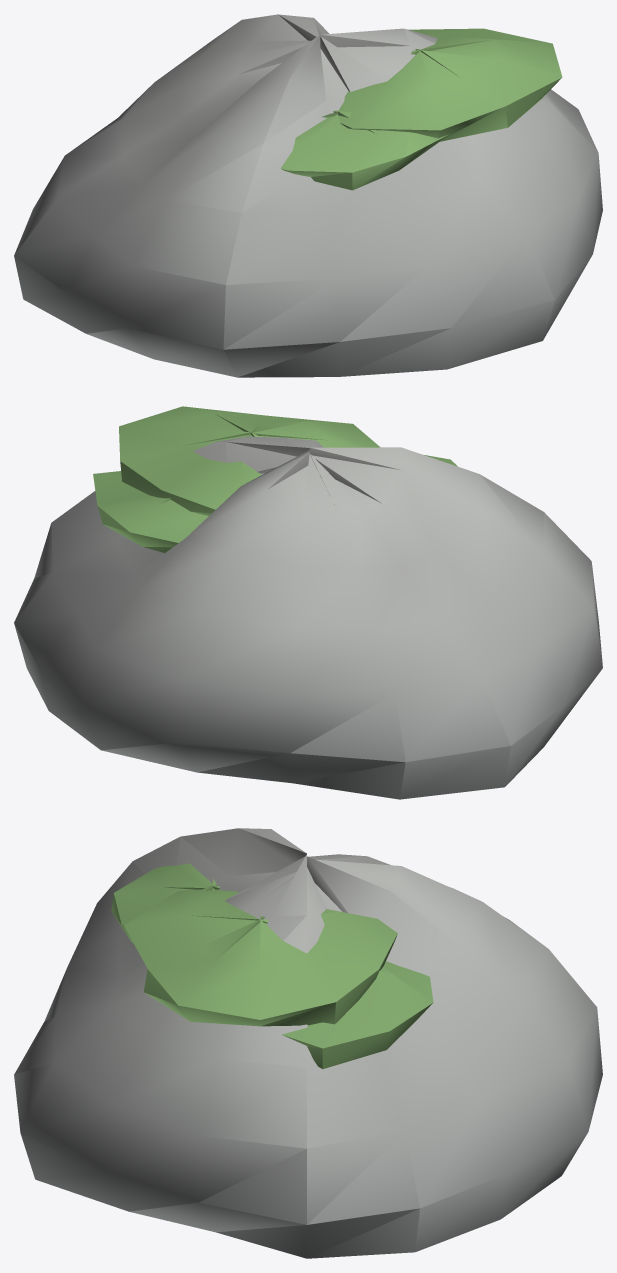
Rendered from cen_valak_rocha_1.glb.
The picture shows the model from 3 angles, top to bottom: view 1: azimuth 30°, elevation 25°; view 2: azimuth 150°, elevation 25°; view 3: azimuth 270°, elevation 25°; orthographic projection. The views are drawn at different scales.
Parts seen in each view (by area): view 1: rocha; view 2: rocha; view 3: rocha.
Boxes of the visible parts, x1,y1,x2,y2 form: rocha: (14,14,602,377); rocha: (14,406,602,799); rocha: (14,828,602,1258).
Size of the model in its own units: 1.75 by 0.7669 by 1.51.
